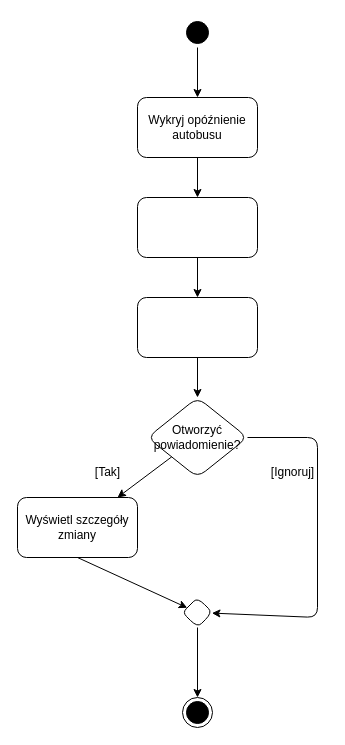
Image size: 345x745. Some labels were removed from this diagram. The box of each missing label's shape, as (x1, y1, x2, y2) in pixels:
Odbierz powiadomienie: (136, 296, 258, 358)
Wyślij powiadomienie: (136, 196, 258, 258)
